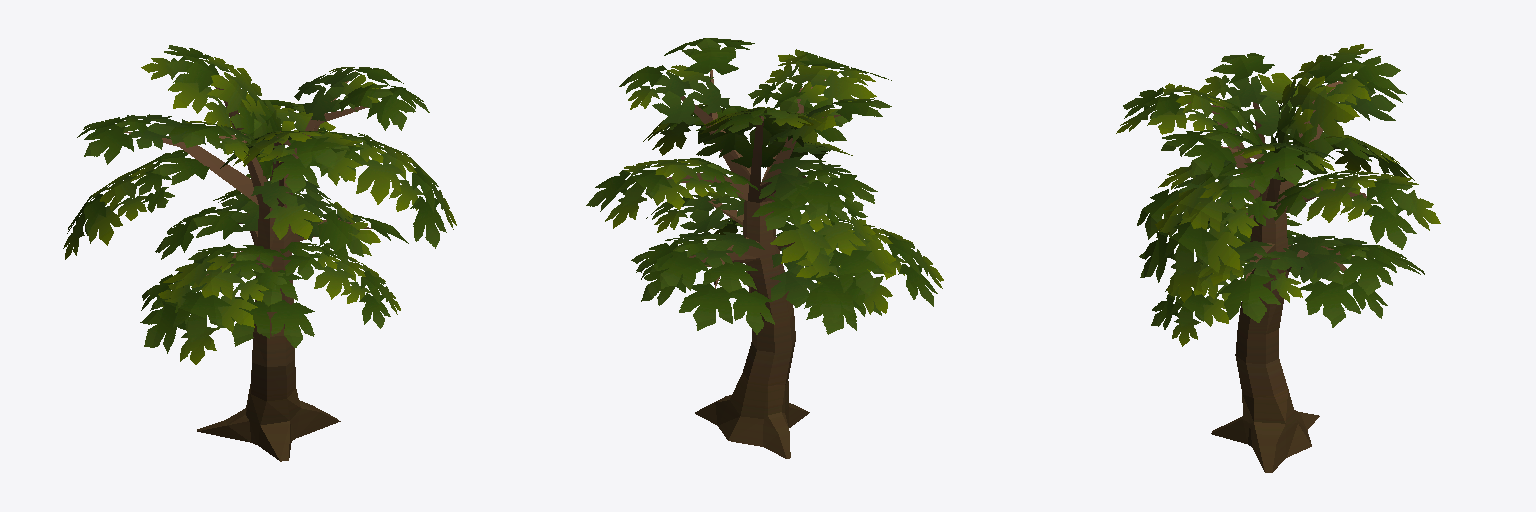
The picture shows the model from 3 angles: view 1: azimuth 30°, elevation 25°; view 2: azimuth 150°, elevation 25°; view 3: azimuth 270°, elevation 25°; orthographic projection.
Visible parts, largest first — view 1: Maple1; view 2: Maple1; view 3: Maple1.
Part boxes in pixels (left/top/right/bottom): Maple1: left=63, top=45, right=456, bottom=461; Maple1: left=586, top=38, right=943, bottom=458; Maple1: left=1116, top=44, right=1440, bottom=472.
Size of the model in its own units: 23.38 by 25.05 by 21.46.
Materials: 1 (1 with a texture image).